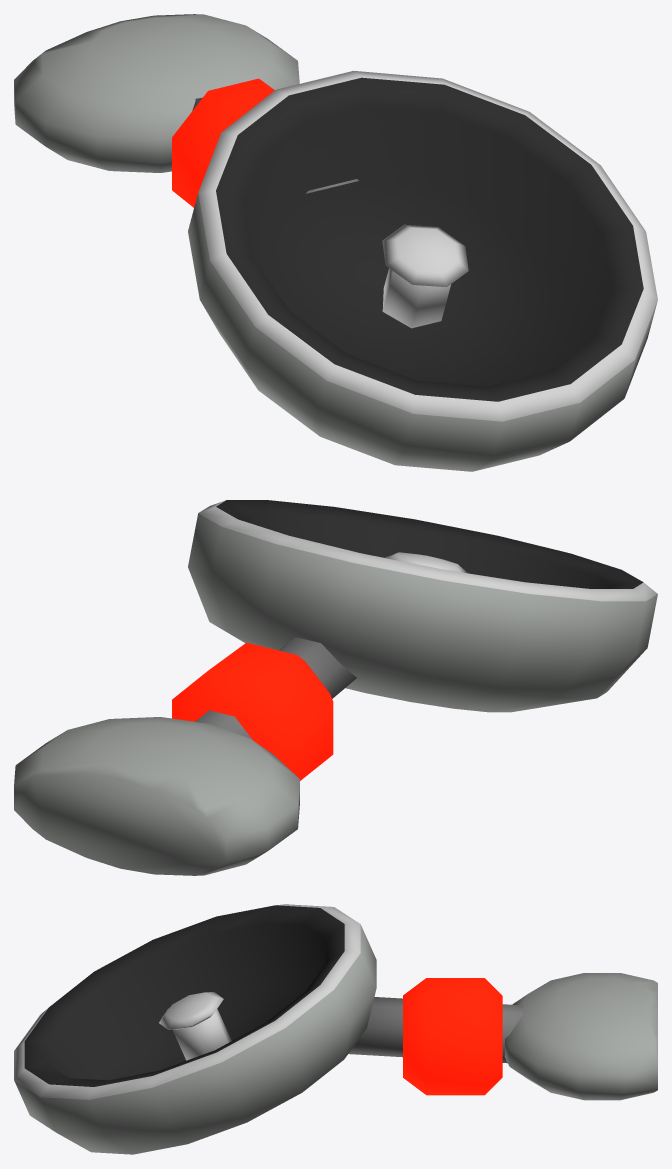
Rendered from newsh7-203-f2.glb.
3 renders of one model, top to bottom at view 1: azimuth 30°, elevation 25°; view 2: azimuth 150°, elevation 25°; view 3: azimuth 270°, elevation 25°, orthographic. The views are drawn at different scales.
Parts seen in each view (by area): view 1: newsh7-203.001; view 2: newsh7-203.001; view 3: newsh7-203.001.
Part boxes in pixels (box(x1,y1,x2,y2)): newsh7-203.001: box(14, 14, 657, 471); newsh7-203.001: box(14, 500, 657, 875); newsh7-203.001: box(14, 904, 657, 1154).
Bounding box in the file's own units: 0.9808 × 0.587 × 1.83.
